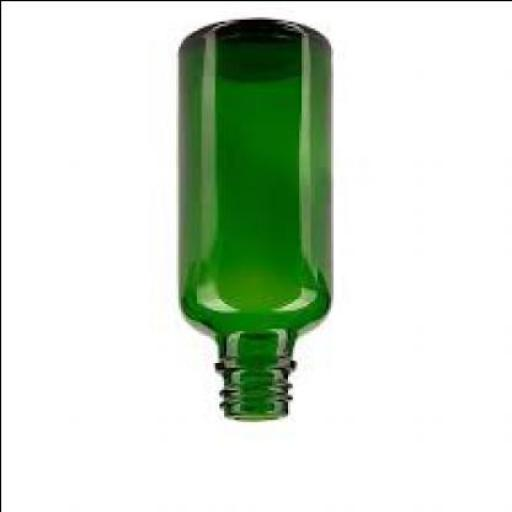glass: (180, 18, 337, 424)
